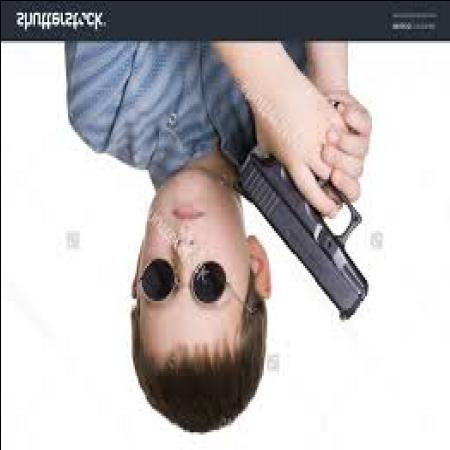Pistol: (232, 138, 373, 328)
